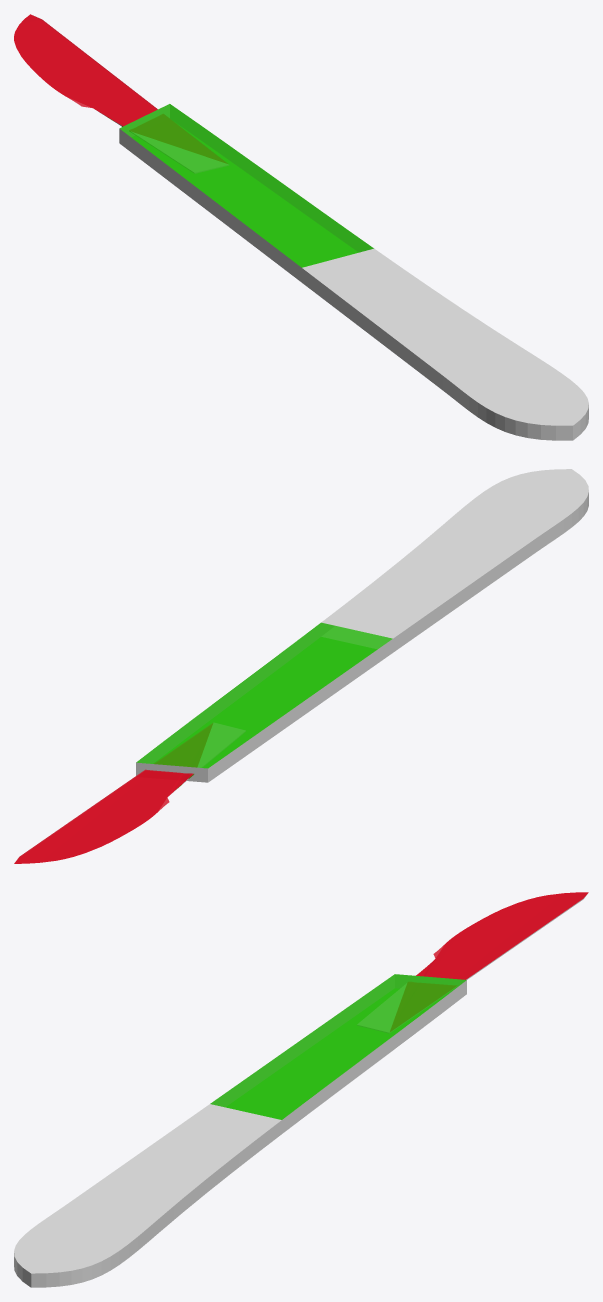
The model's file is grip_zone_scalpel.fbx.
3 renders of one model, top to bottom at view 1: azimuth 30°, elevation 25°; view 2: azimuth 150°, elevation 25°; view 3: azimuth 330°, elevation 25°, orthographic. The views are drawn at different scales.
Parts seen in each view (by area): view 1: BezierCircle.001_Mesh; view 2: BezierCircle.001_Mesh; view 3: BezierCircle.001_Mesh.
Part boxes in pixels (x1=…): BezierCircle.001_Mesh: x1=14, y1=14, x2=588, y2=440; BezierCircle.001_Mesh: x1=14, y1=469, x2=588, y2=863; BezierCircle.001_Mesh: x1=14, y1=892, x2=588, y2=1287.
Bounding box in the file's own units: 238 × 36.64 × 2510.
